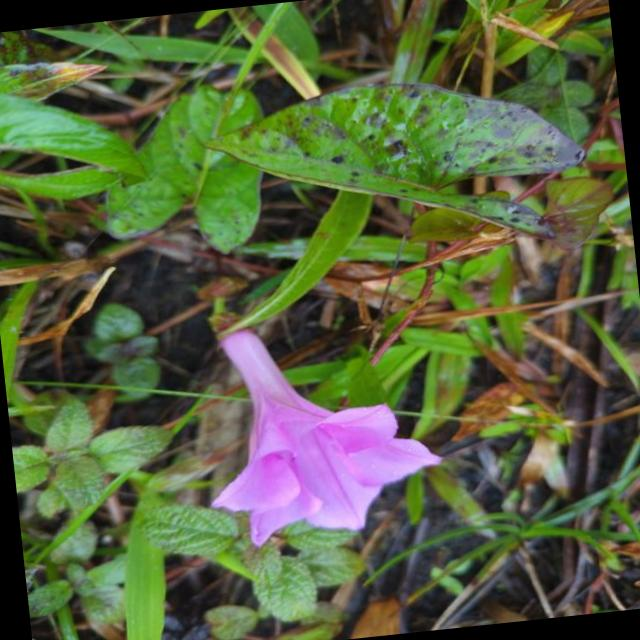ipomoea: (189, 304, 454, 554)
